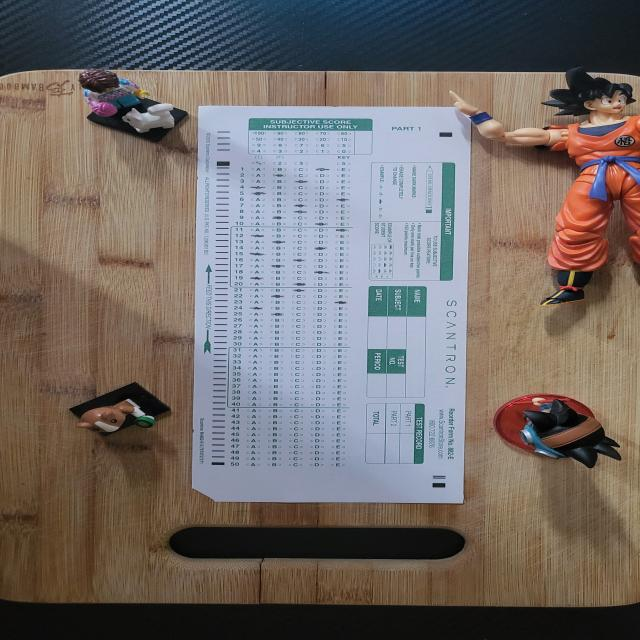scantron: (190, 105, 471, 503)
